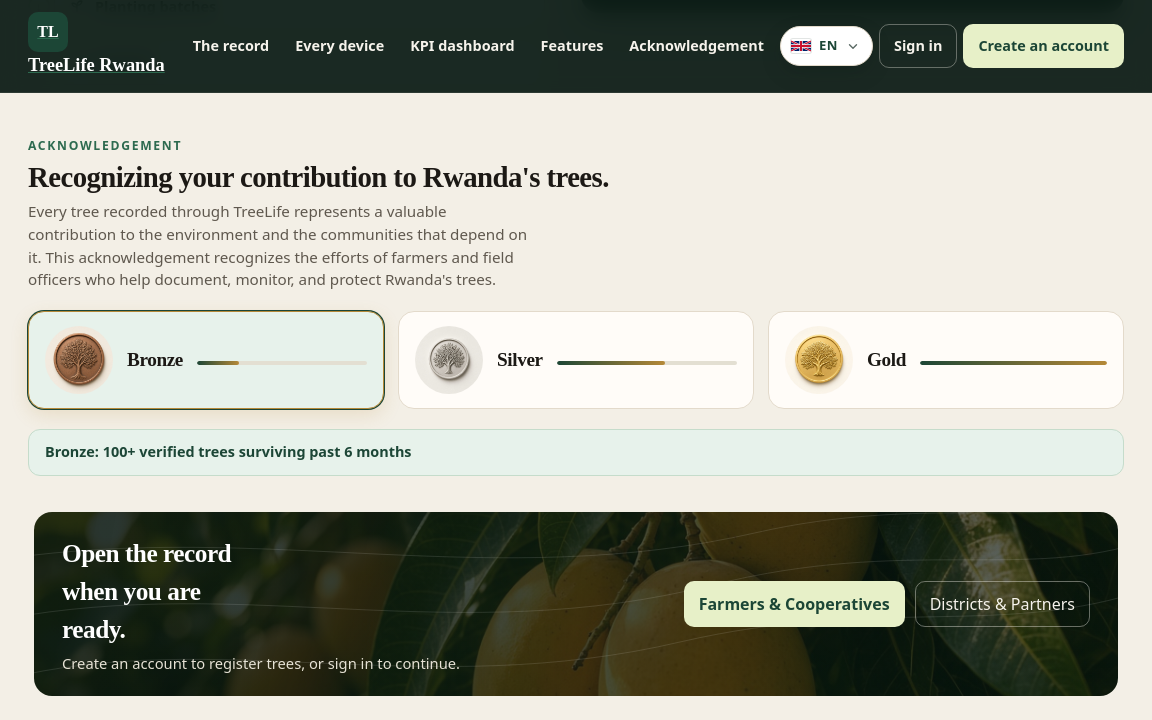
HomePage › reveals badge milestone criteria and renders role-based CTA footer
(page scrolled)
Expected: the text "Bronze: 100+ verified trees surviving past 6 months" is shown, x1=28 y1=429 x2=1124 y2=476
Click the tab "Silver".
click(576, 360)  # box x1=398 y1=311 x2=754 y2=409
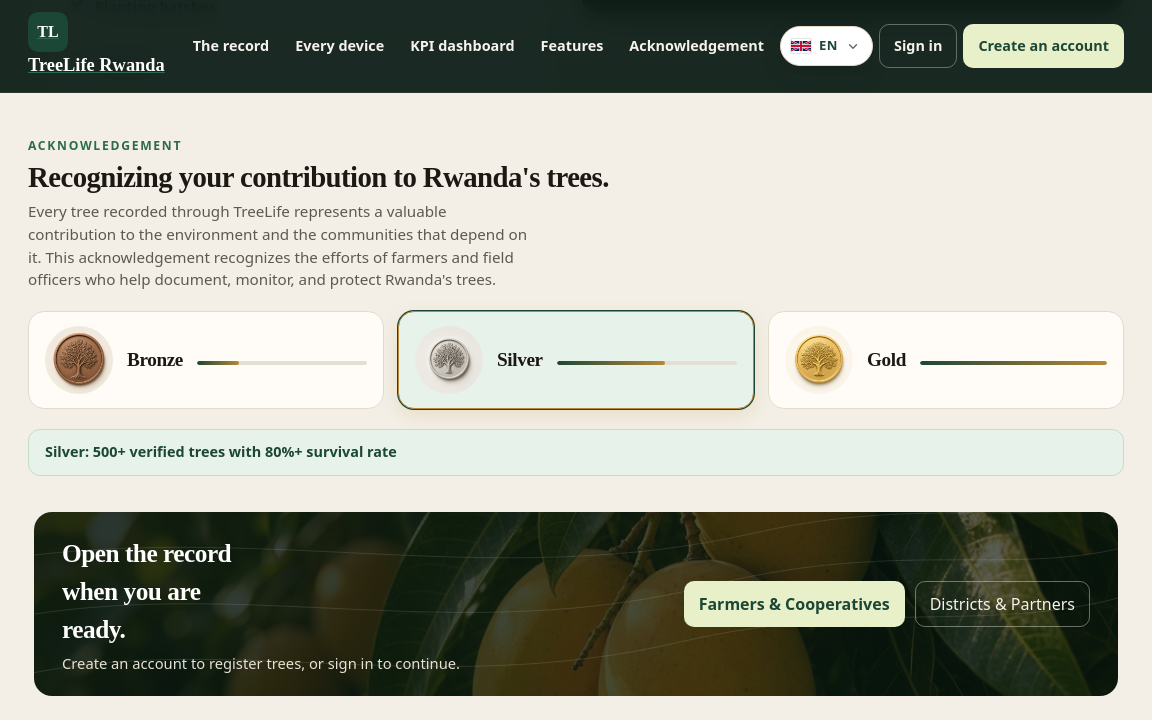
Now the text "Silver: 500+ verified trees with 80%+ survival rate" is shown, box x1=28 y1=429 x2=1124 y2=476
Click the tab "Gold".
click(946, 360)  # box x1=768 y1=311 x2=1124 y2=409
(page scrolled)
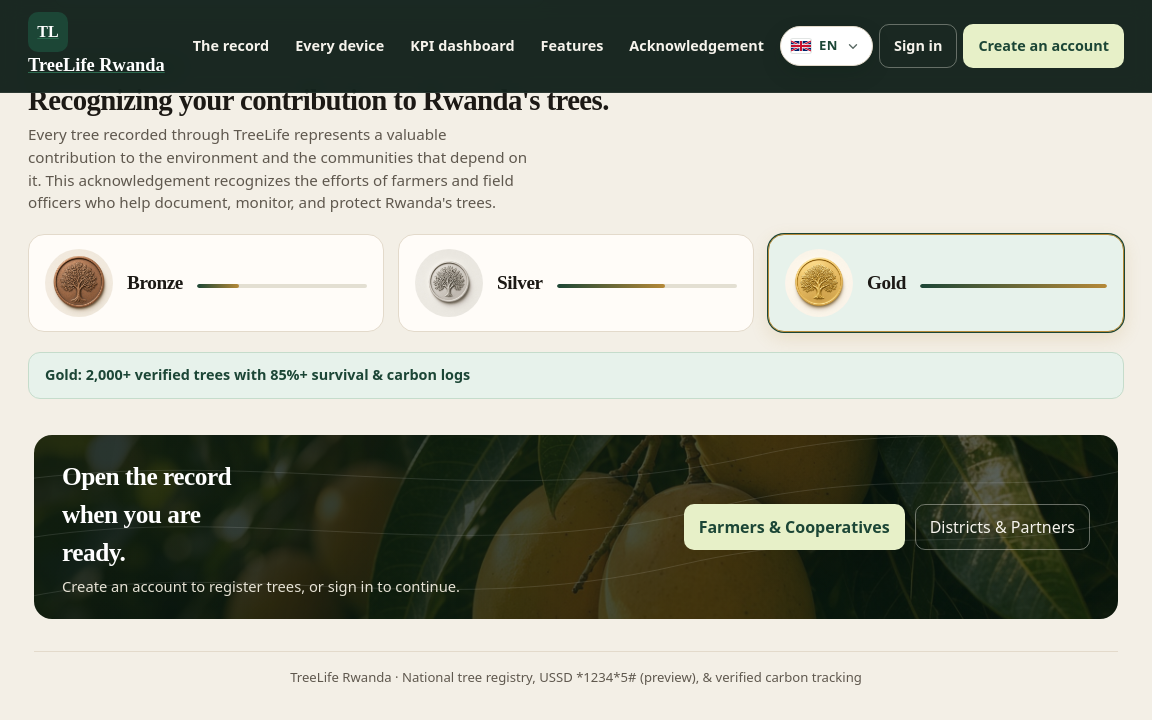
Expected: the text "TreeLife Rwanda · National tree registry, USSD *1234*5# (preview), & verified carbon tracking" is shown, x1=290 y1=668 x2=862 y2=686
Now the text "Gold: 2,000+ verified trees with 85%+ survival & carbon logs" is shown, box x1=28 y1=352 x2=1124 y2=399
